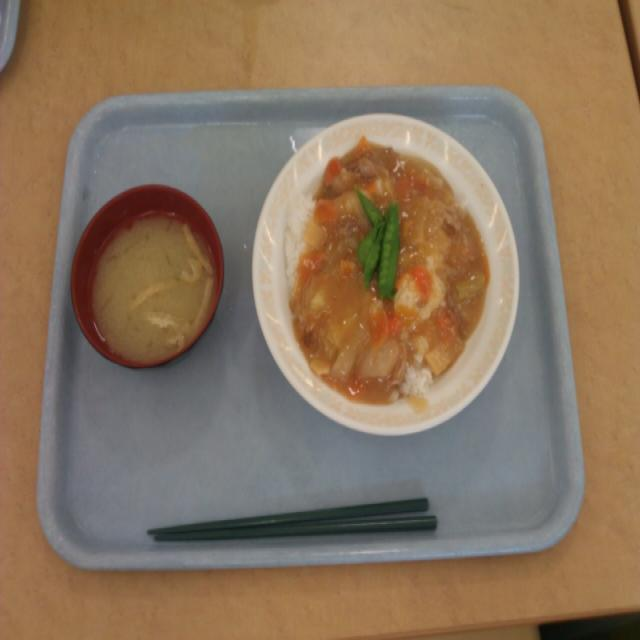汤锅炖物: (80, 197, 226, 368)
